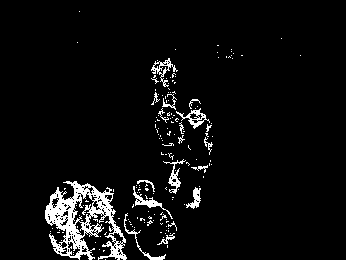person: (125, 178, 177, 260), (75, 180, 126, 260), (181, 98, 214, 210), (44, 179, 88, 259), (156, 95, 183, 195)
